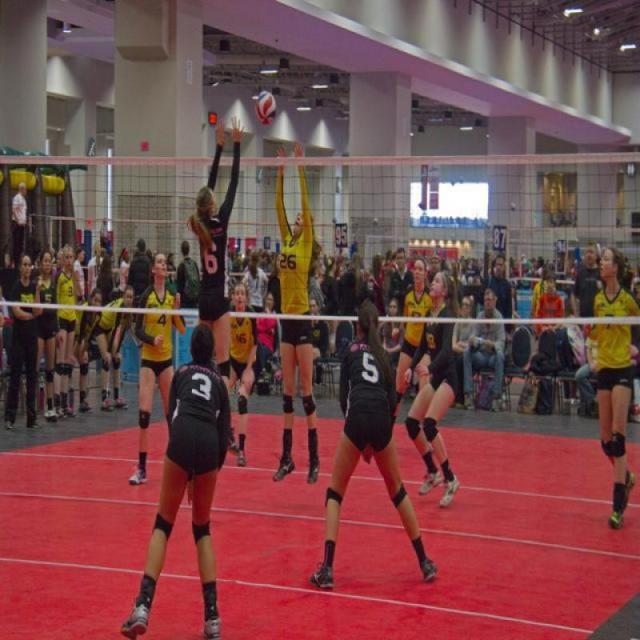volleyball: (254, 89, 278, 126)
